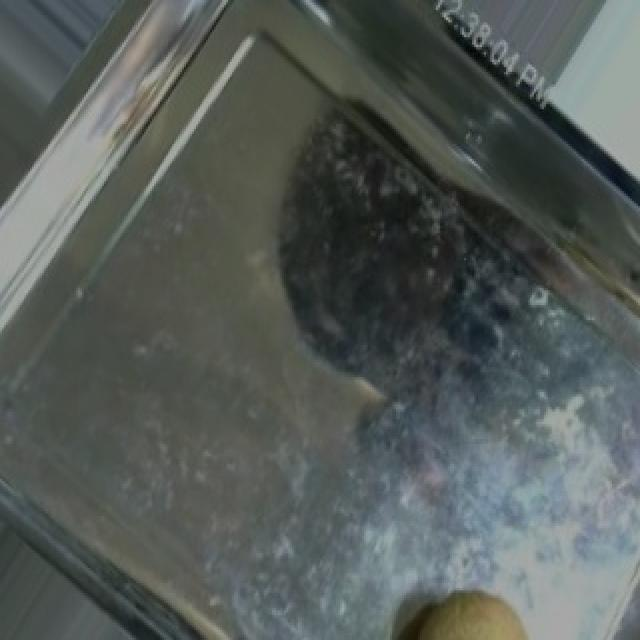Fruit: (388, 563, 574, 640)
